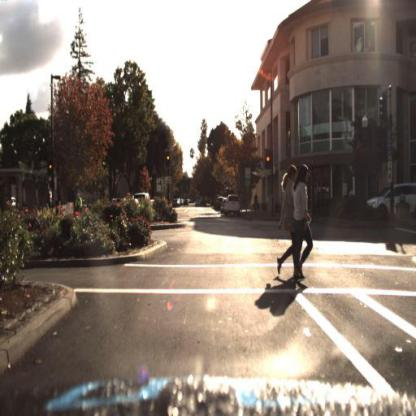biker: (71, 191, 88, 212)
car: (362, 182, 416, 221), (129, 188, 153, 210), (226, 193, 242, 217)
pedestrian: (278, 154, 299, 283), (292, 167, 313, 277), (253, 191, 259, 215)
trafficLight: (164, 148, 172, 166)
trafficLight-Yellow: (265, 147, 273, 169), (48, 157, 56, 177)
